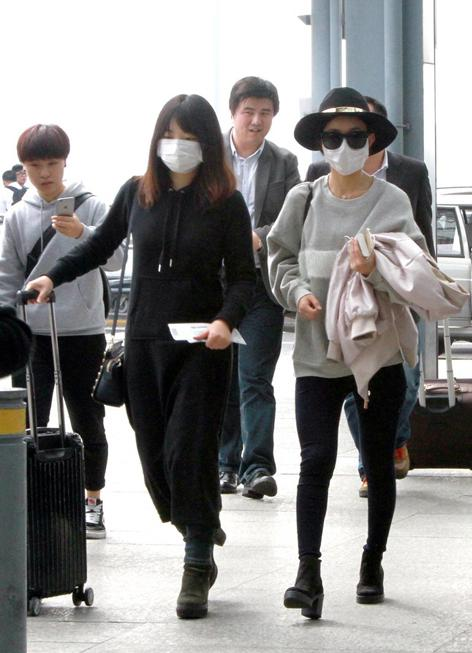NONE: (240, 102, 274, 140), (26, 161, 63, 192)
OK: (319, 122, 368, 180), (155, 124, 203, 172)
